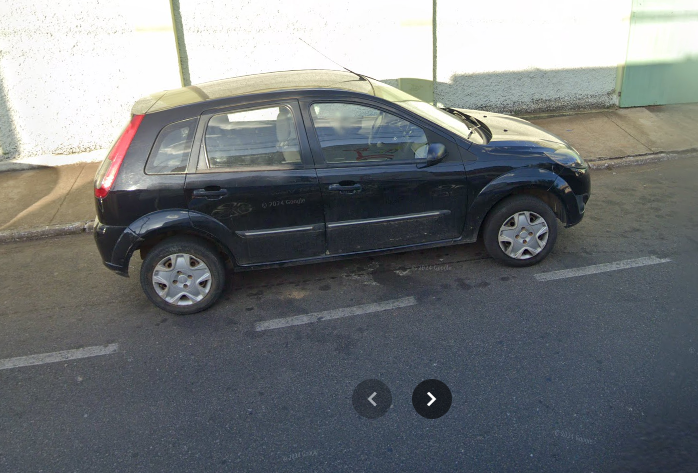car: (88, 34, 595, 324)
